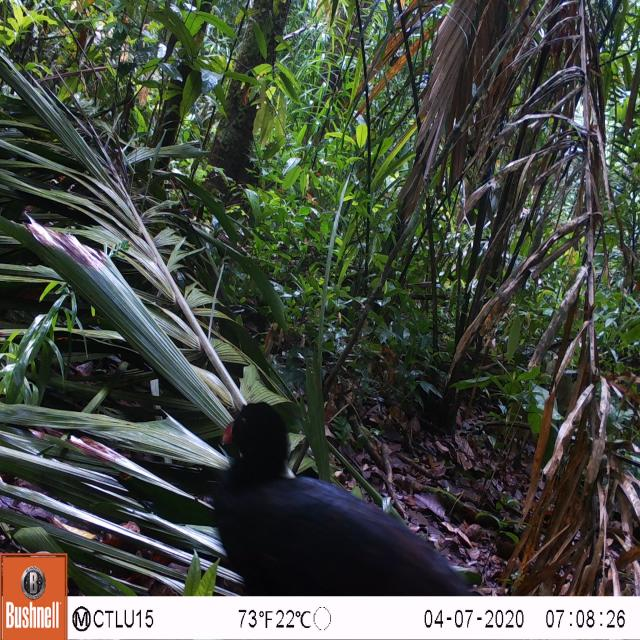Salvins Curassow: (205, 396, 494, 604)
